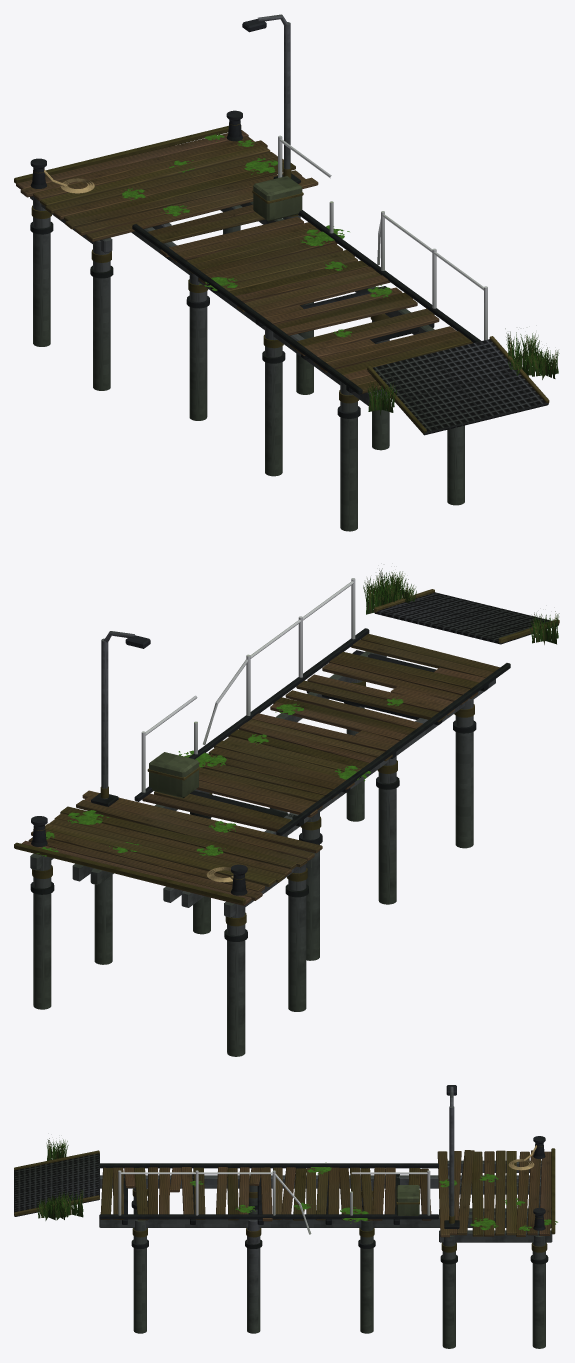
File: dock.glb
3 renders of one model, top to bottom at view 1: azimuth 30°, elevation 25°; view 2: azimuth 150°, elevation 25°; view 3: azimuth 270°, elevation 25°, orthographic. The views are drawn at different scales.
Parts seen in each view (by area): view 1: Dock; view 2: Dock; view 3: Dock.
Part boxes in pixels (x1=…): Dock: x1=14, y1=14, x2=559, y2=531; Dock: x1=14, y1=568, x2=559, y2=1056; Dock: x1=14, y1=1085, x2=557, y2=1348.
Size of the model in its own units: 3.9 by 5.3 by 10.62.
11 materials, 9 textured.
